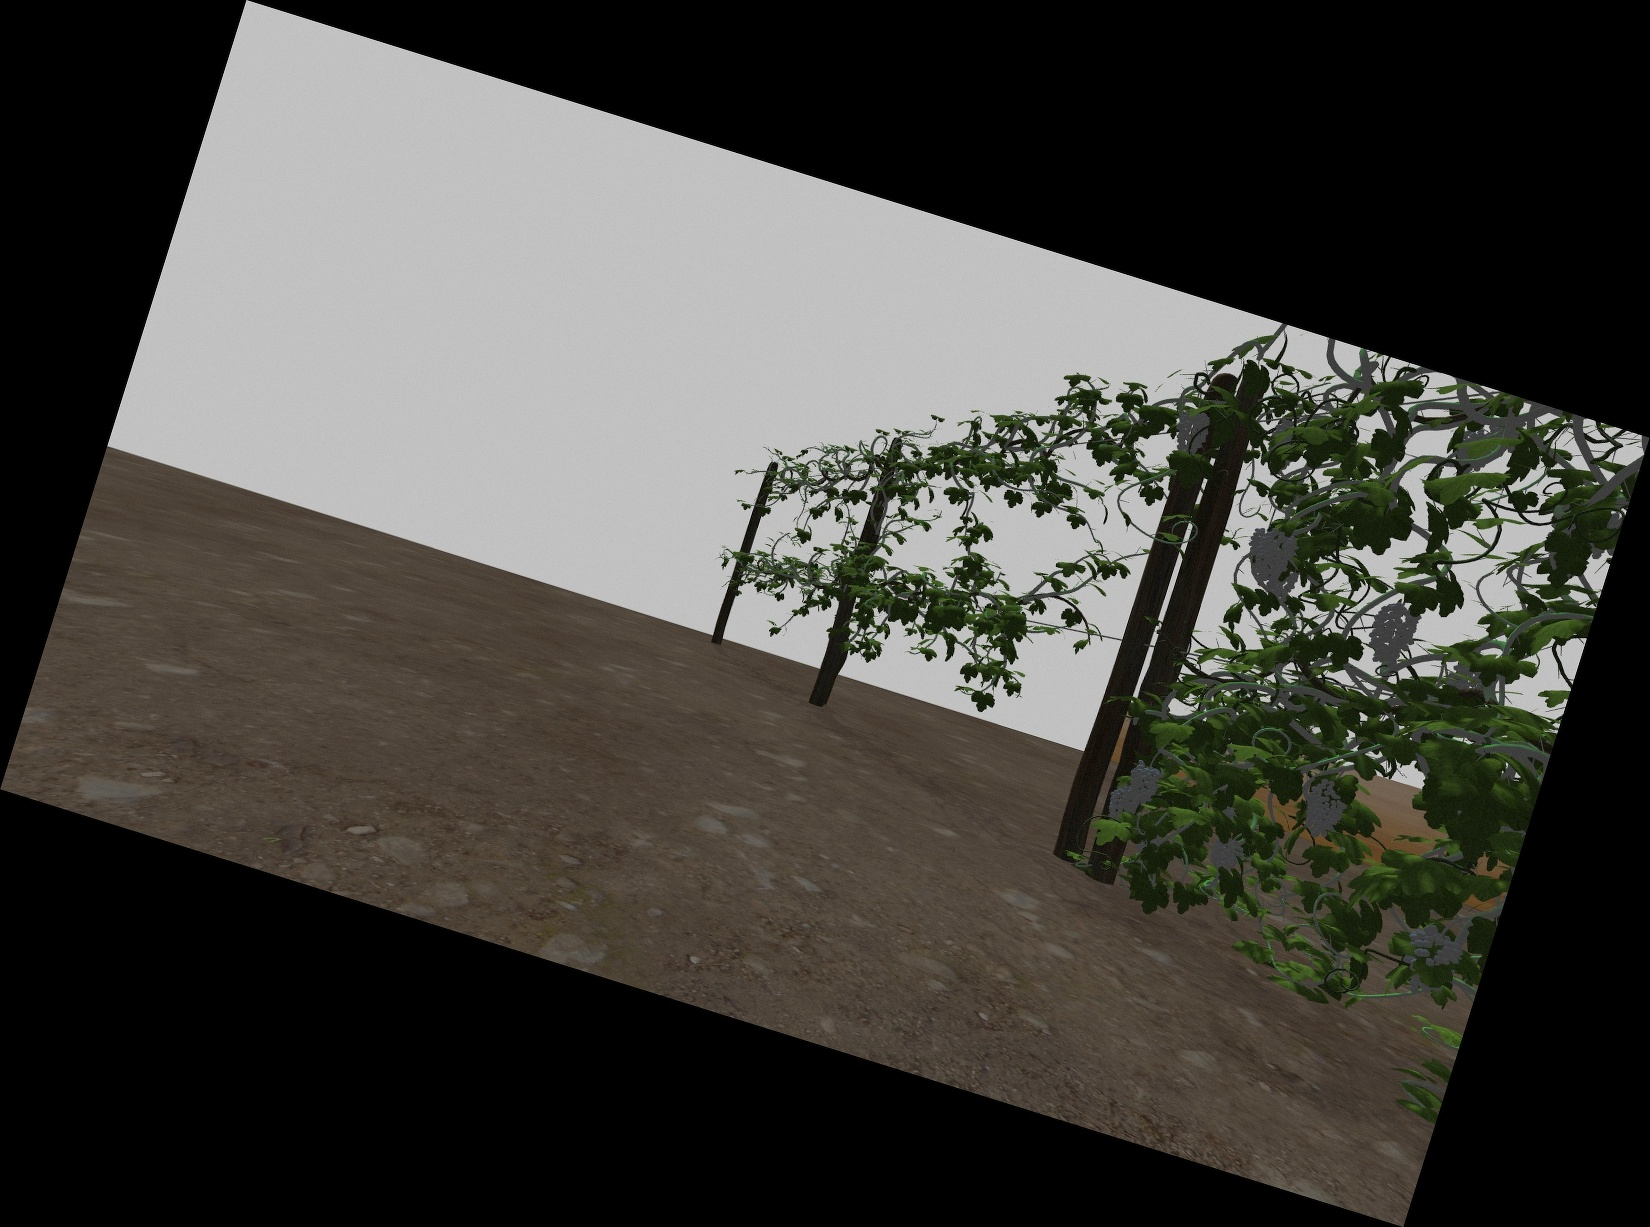grape: (1245, 528, 1294, 589), (1303, 780, 1344, 842), (1409, 925, 1463, 968), (1370, 604, 1409, 664), (1176, 410, 1208, 455), (1129, 763, 1159, 804), (1210, 836, 1240, 874), (1107, 789, 1137, 824)
